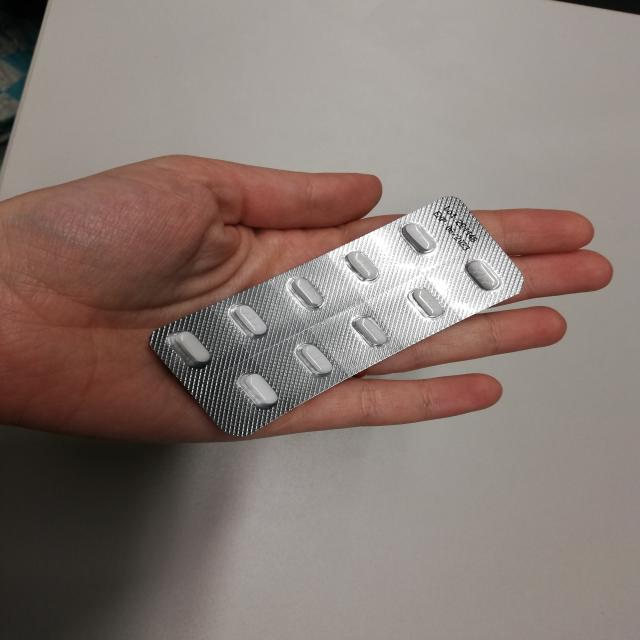Pill: (161, 322, 217, 374), (448, 250, 511, 296), (344, 307, 396, 353), (400, 280, 452, 326), (228, 299, 278, 343), (233, 367, 280, 411), (291, 333, 333, 382), (339, 247, 389, 285), (398, 221, 443, 261), (290, 272, 330, 316)
